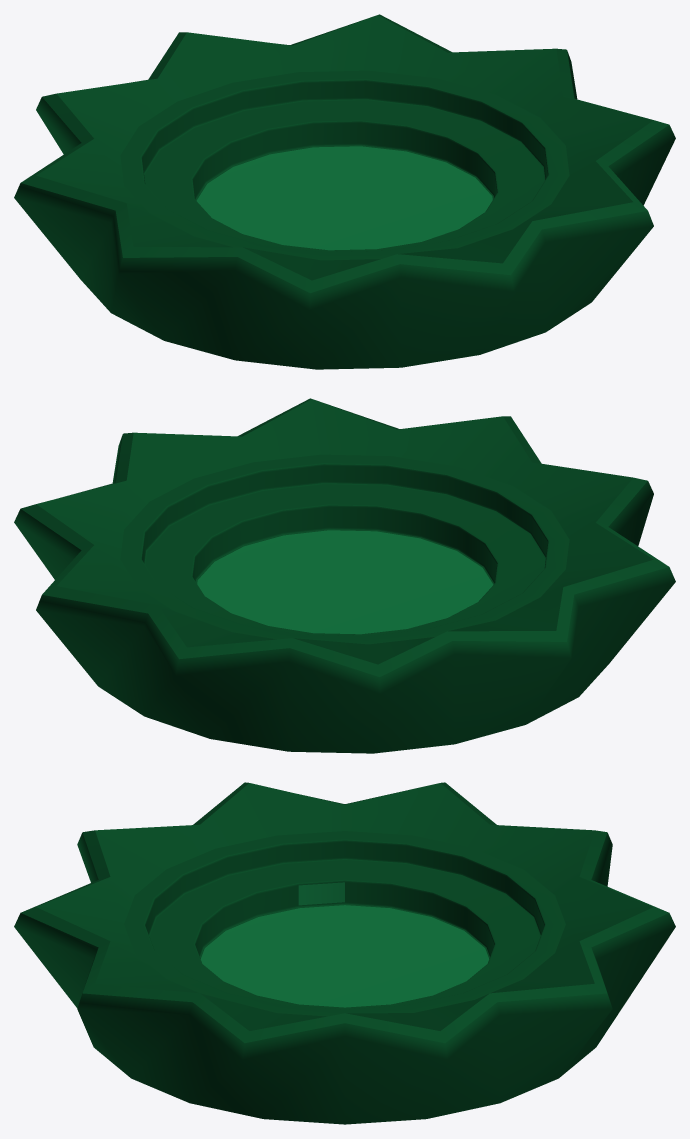
Rendered from Portal.fbx.
3 renders of one model, top to bottom at view 1: azimuth 30°, elevation 25°; view 2: azimuth 150°, elevation 25°; view 3: azimuth 270°, elevation 25°, orthographic. The views are drawn at different scales.
Parts seen in each view (by area): view 1: Portal_topdownview_; view 2: Portal_topdownview_; view 3: Portal_topdownview_.
Boxes of the visible parts, x1,y1,x2,y2 form: Portal_topdownview_: (14, 14, 675, 369); Portal_topdownview_: (14, 398, 675, 753); Portal_topdownview_: (14, 782, 675, 1124).
Bounding box in the file's own units: 2.38 × 0.4422 × 2.51.
